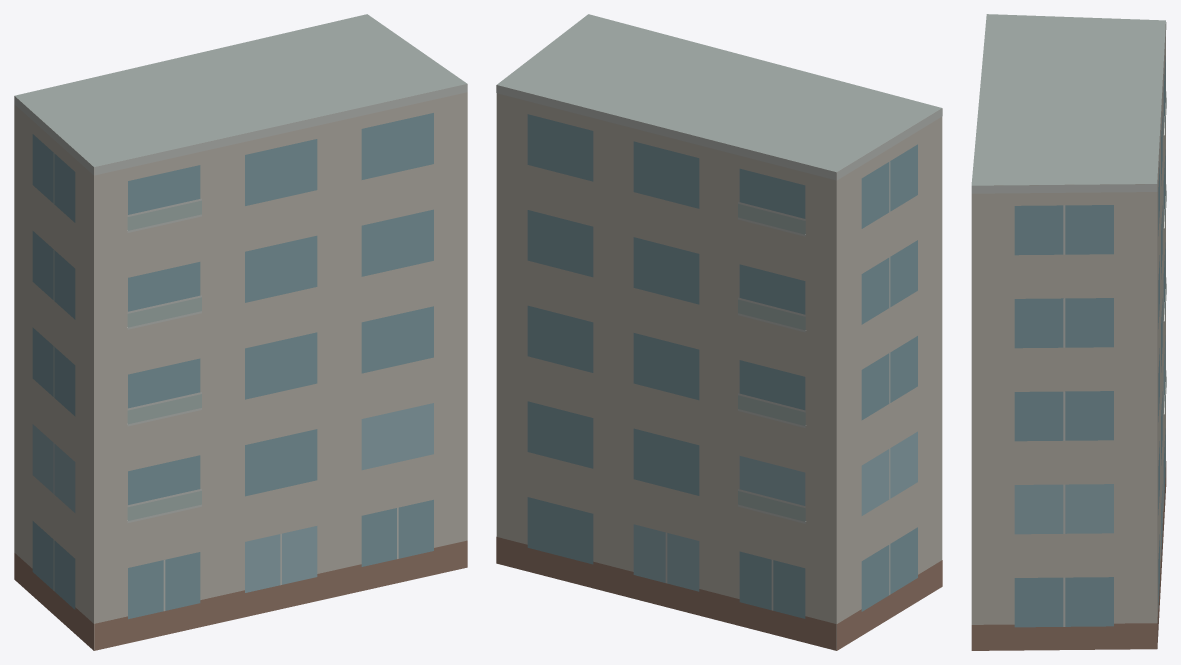
The model's file is survey-upis-32640323.glb.
3 renders of one model, left to right at view 1: azimuth 30°, elevation 25°; view 2: azimuth 150°, elevation 25°; view 3: azimuth 270°, elevation 25°, orthographic. The views are drawn at different scales.
Visible parts, largest first — view 1: survey-upis-32640323.tmp; view 2: survey-upis-32640323.tmp; view 3: survey-upis-32640323.tmp.
Boxes of the visible parts, x1,y1,x2,y2 form: survey-upis-32640323.tmp: (14,14,467,650); survey-upis-32640323.tmp: (496,14,942,650); survey-upis-32640323.tmp: (971,14,1166,650).
Bounding box in the file's own units: 11.17 × 14.1 × 5.37.
